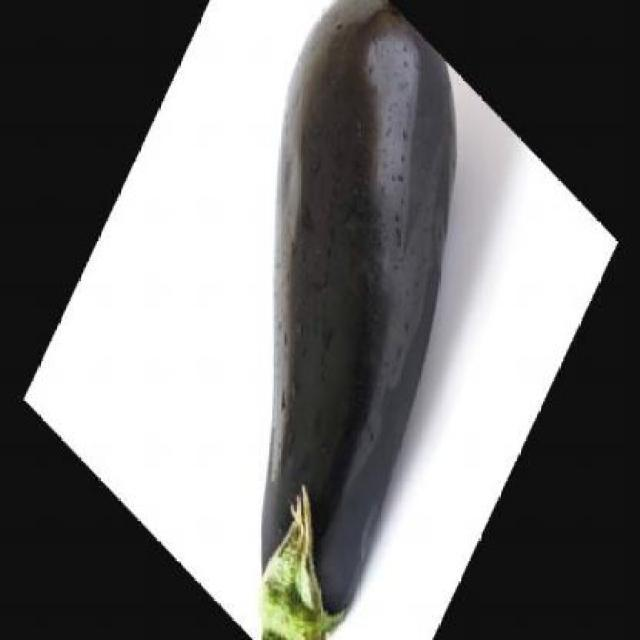eggplant: (255, 0, 466, 640)
